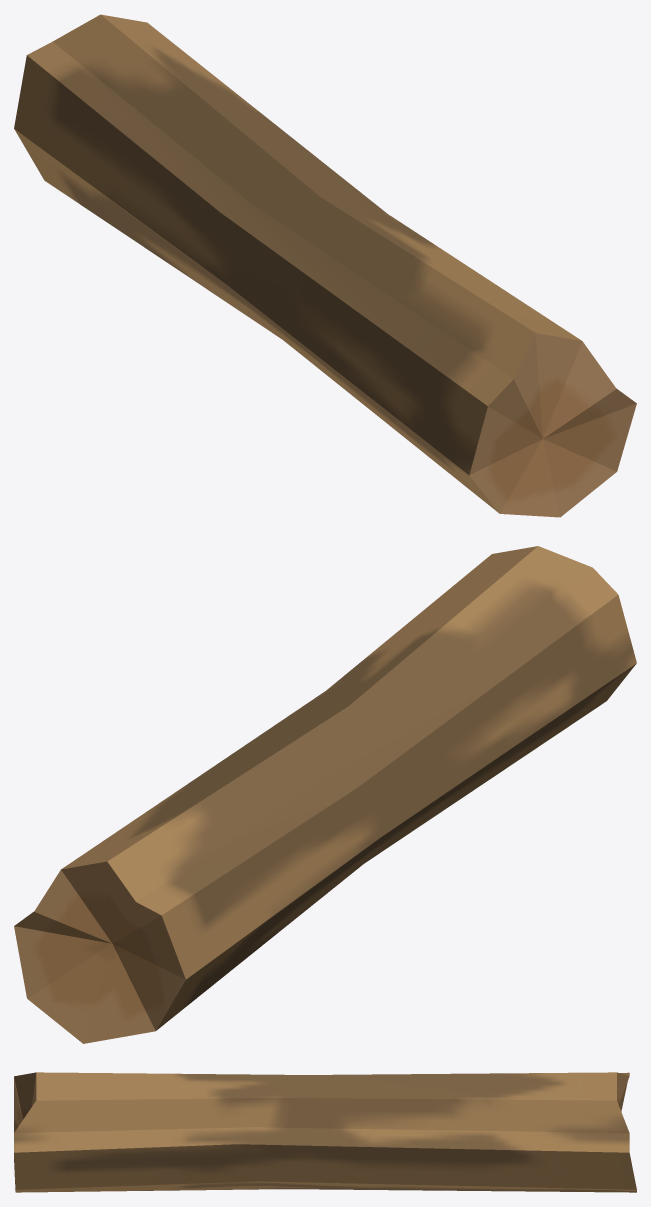
The model's file is SM_Prop_Log_Wide_04.fbx.
The picture shows the model from 3 angles, top to bottom: view 1: azimuth 30°, elevation 25°; view 2: azimuth 150°, elevation 25°; view 3: azimuth 270°, elevation 25°; orthographic projection. The views are drawn at different scales.
Visible parts, largest first — view 1: SM_Prop_Log_Wide_04; view 2: SM_Prop_Log_Wide_04; view 3: SM_Prop_Log_Wide_04.
Boxes of the visible parts, box(x1,y1,x2,y2) form: SM_Prop_Log_Wide_04: box(14, 14, 636, 517); SM_Prop_Log_Wide_04: box(14, 546, 636, 1043); SM_Prop_Log_Wide_04: box(14, 1072, 636, 1192).
Bounding box in the file's own units: 159 × 159 × 766.
